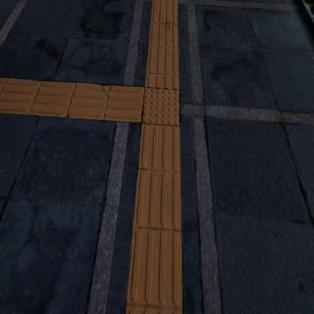Podoctatil: (124, 126, 186, 313), (125, 54, 198, 157), (0, 77, 143, 122), (146, 1, 181, 84)
